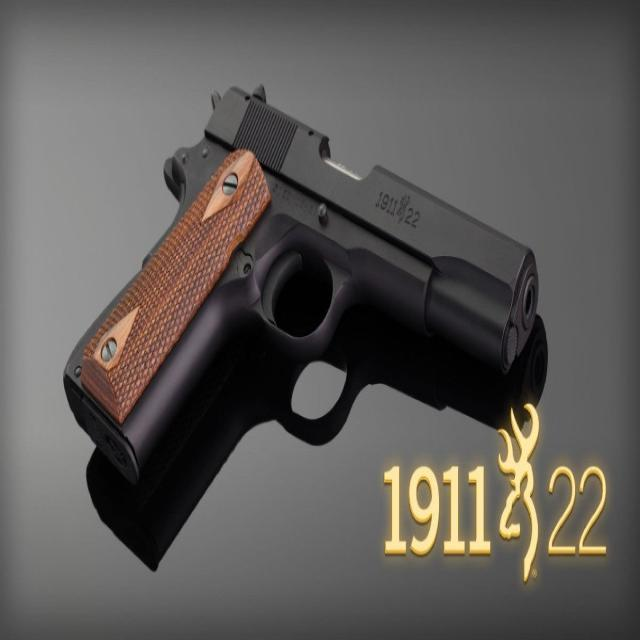Pistol: (56, 54, 575, 570)
